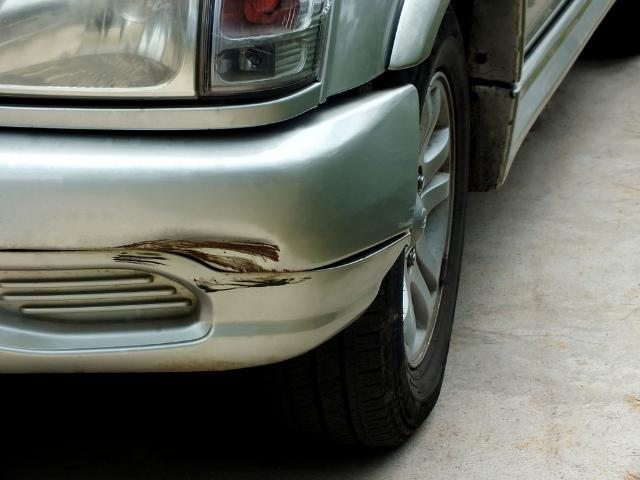dent: (138, 225, 300, 272)
scratch: (194, 274, 317, 293), (110, 246, 175, 266)
